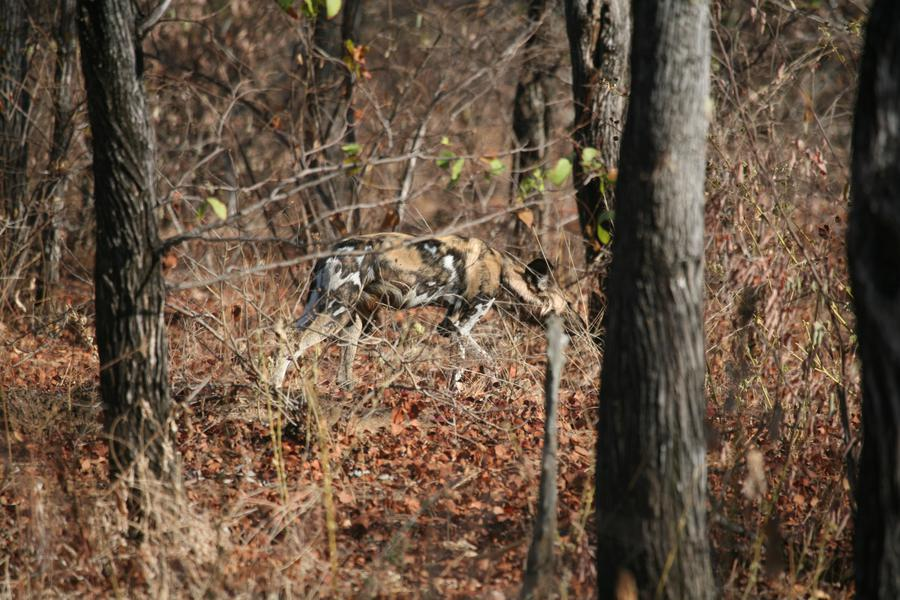wilddog: (298, 211, 541, 386)
